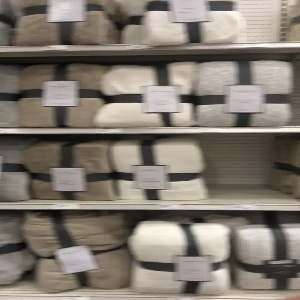void: (205, 131, 300, 205), (241, 1, 291, 44)
